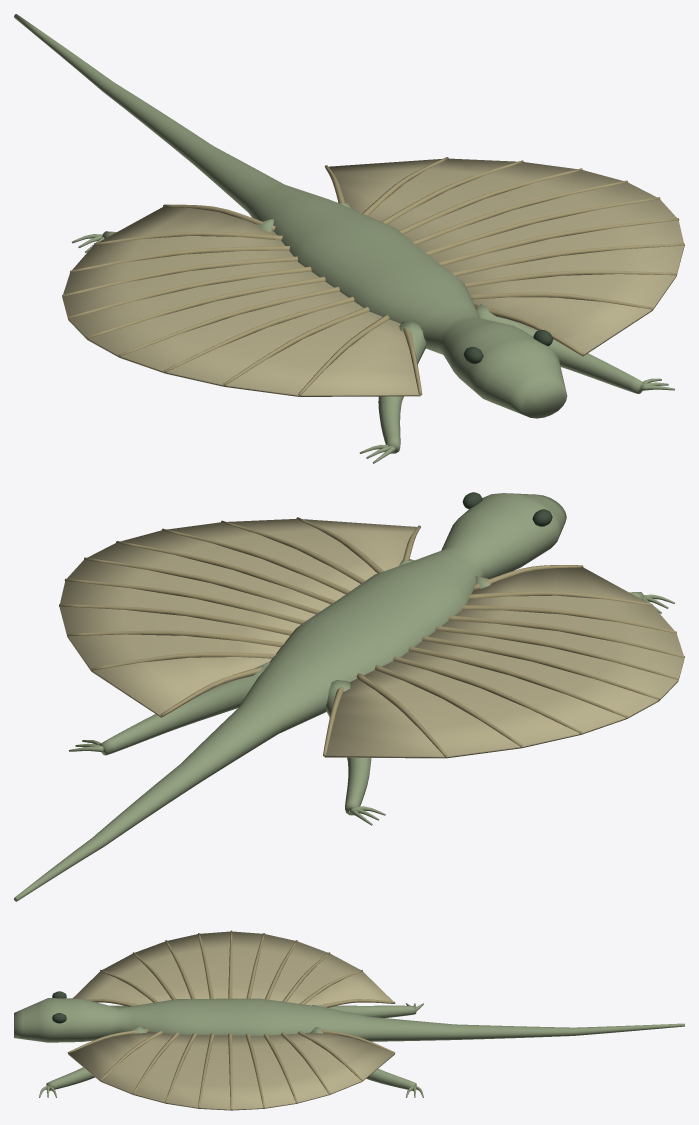
Rendered from coelurosauravus.glb.
3 views of the same model, one above another, from view 1: azimuth 30°, elevation 25°; view 2: azimuth 150°, elevation 25°; view 3: azimuth 270°, elevation 25° (orthographic). The views are drawn at different scales.
Parts seen in each view (by area): view 1: paired-lateral-gliding-membranes-not-hand-wings, continuous-small-reptile-head-trunk-and-long-tapering-tail, independent-non-rib-lateral-membrane-support-rods, four-limbs-distinct-from-lateral-membrane-rods; view 2: paired-lateral-gliding-membranes-not-hand-wings, continuous-small-reptile-head-trunk-and-long-tapering-tail, independent-non-rib-lateral-membrane-support-rods, four-limbs-distinct-from-lateral-membrane-rods; view 3: paired-lateral-gliding-membranes-not-hand-wings, continuous-small-reptile-head-trunk-and-long-tapering-tail, independent-non-rib-lateral-membrane-support-rods, four-limbs-distinct-from-lateral-membrane-rods.
Part boxes in pixels (<box>): paired-lateral-gliding-membranes-not-hand-wings: <box>62,158,684,396</box>; continuous-small-reptile-head-trunk-and-long-tapering-tail: <box>14,14,567,418</box>; independent-non-rib-lateral-membrane-support-rods: <box>62,157,684,395</box>; four-limbs-distinct-from-lateral-membrane-rods: <box>72,202,674,463</box>; paired-lateral-gliding-membranes-not-hand-wings: <box>59,519,684,758</box>; continuous-small-reptile-head-trunk-and-long-tapering-tail: <box>14,493,566,901</box>; independent-non-rib-lateral-membrane-support-rods: <box>59,517,684,757</box>; four-limbs-distinct-from-lateral-membrane-rods: <box>69,559,674,825</box>; paired-lateral-gliding-membranes-not-hand-wings: <box>68,931,394,1110</box>; continuous-small-reptile-head-trunk-and-long-tapering-tail: <box>14,998,684,1042</box>; independent-non-rib-lateral-membrane-support-rods: <box>67,930,395,1109</box>; four-limbs-distinct-from-lateral-membrane-rods: <box>39,1003,423,1097</box>.
Bounding box in the file's own units: 0.2008 × 0.0264 × 0.32.
